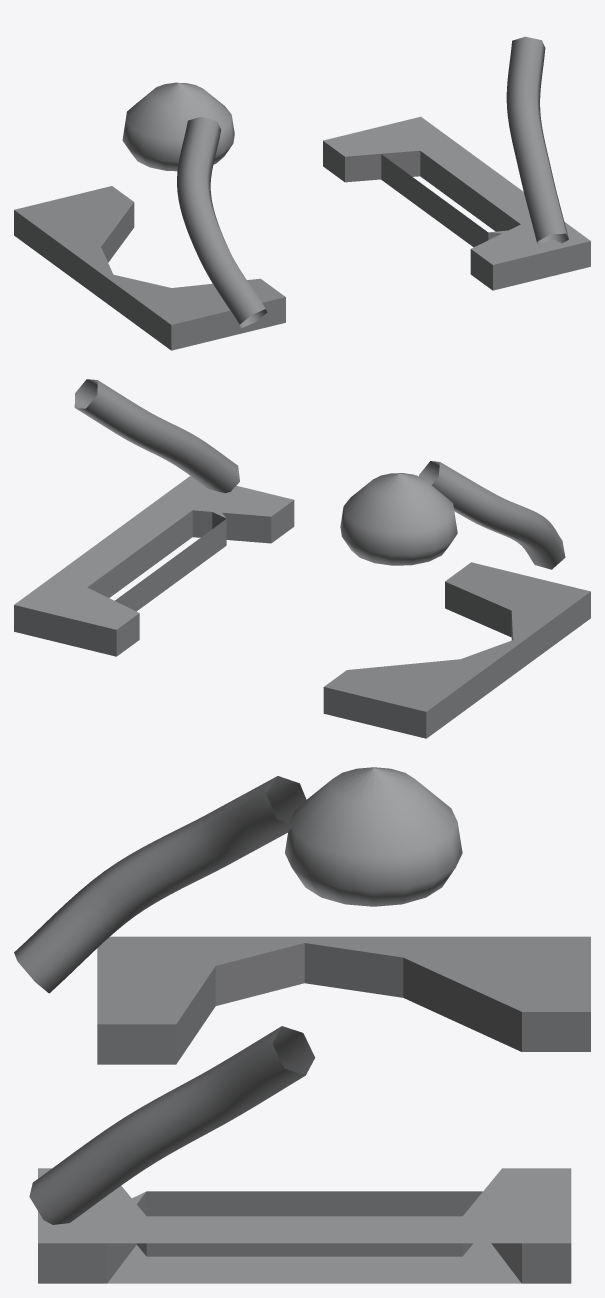
3 renders of one model, top to bottom at view 1: azimuth 30°, elevation 25°; view 2: azimuth 150°, elevation 25°; view 3: azimuth 270°, elevation 25°, orthographic. The views are drawn at different scales.
Size of the model in its own units: 0.9735 by 0.3717 by 0.6894.
